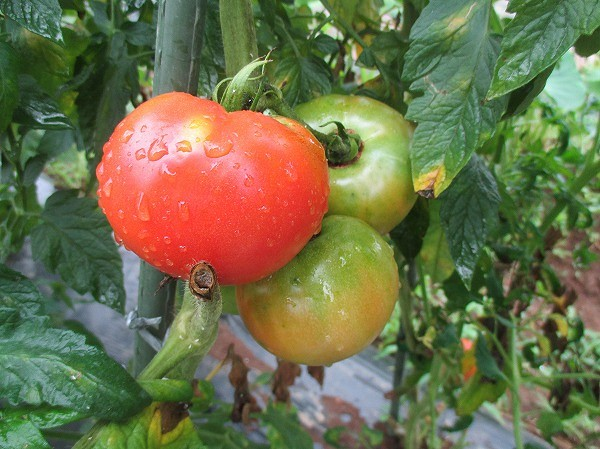stems: (270, 92, 334, 145)
tomato: (95, 91, 330, 287), (234, 216, 401, 367), (280, 93, 421, 235)
